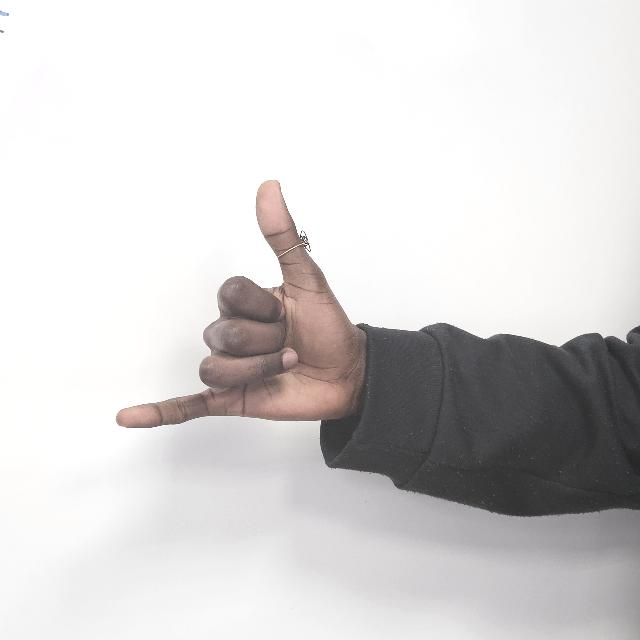Direita: (109, 180, 359, 452)
